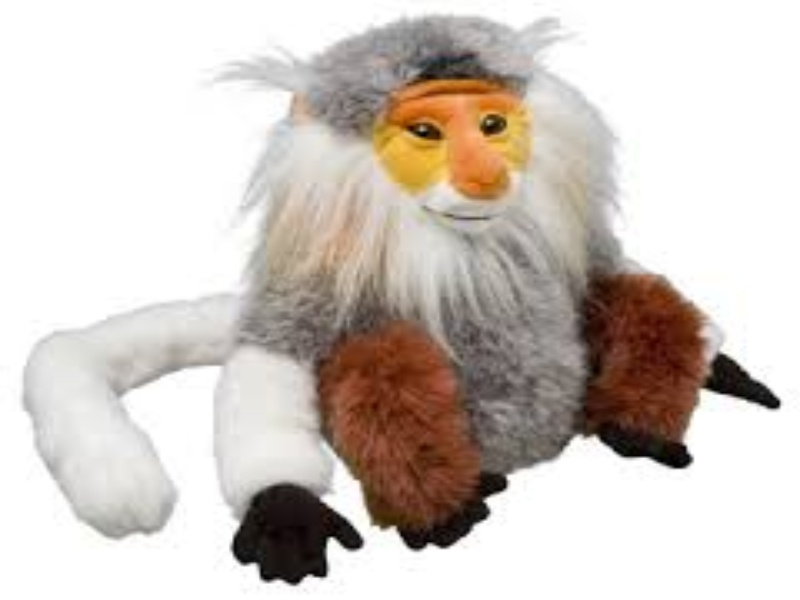monkey: (214, 23, 723, 582)
